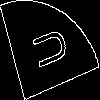U: (25, 24, 69, 75)
